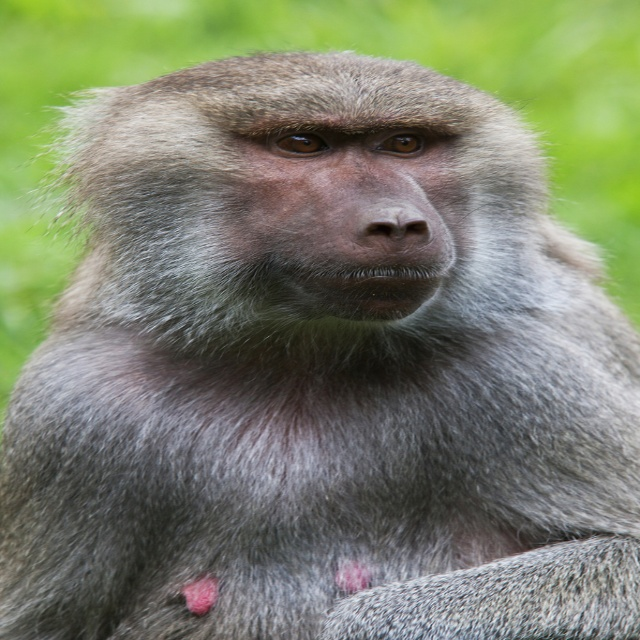Monkey: (1, 49, 639, 640)
